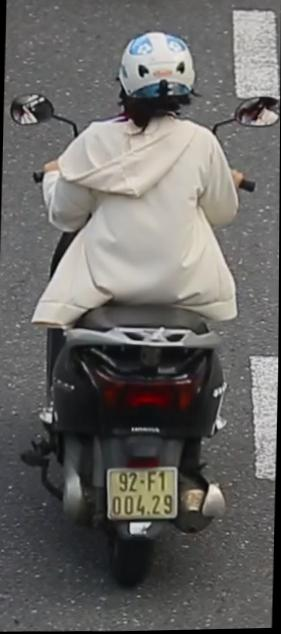LP: (101, 462, 181, 523)
helmet: (113, 17, 200, 145)
